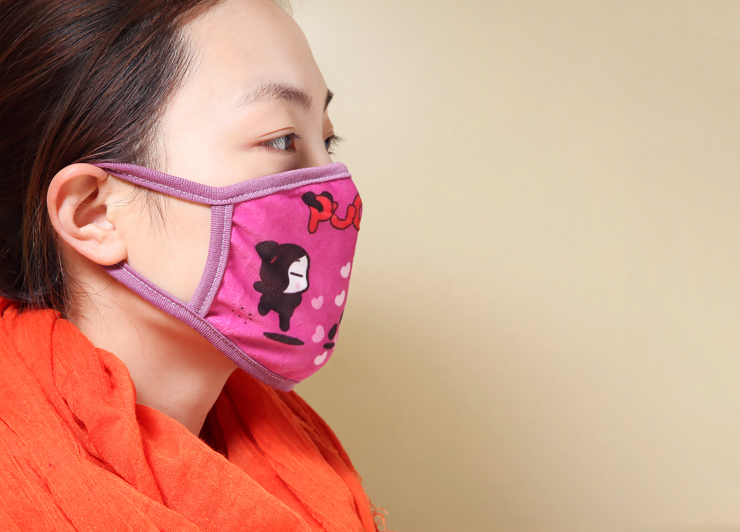face_mask: (153, 14, 360, 354), (151, 12, 358, 352)
